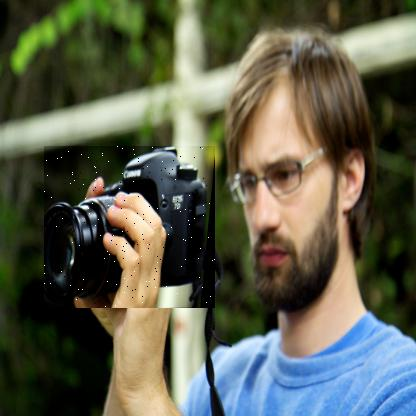Camera: (45, 147, 217, 310)
